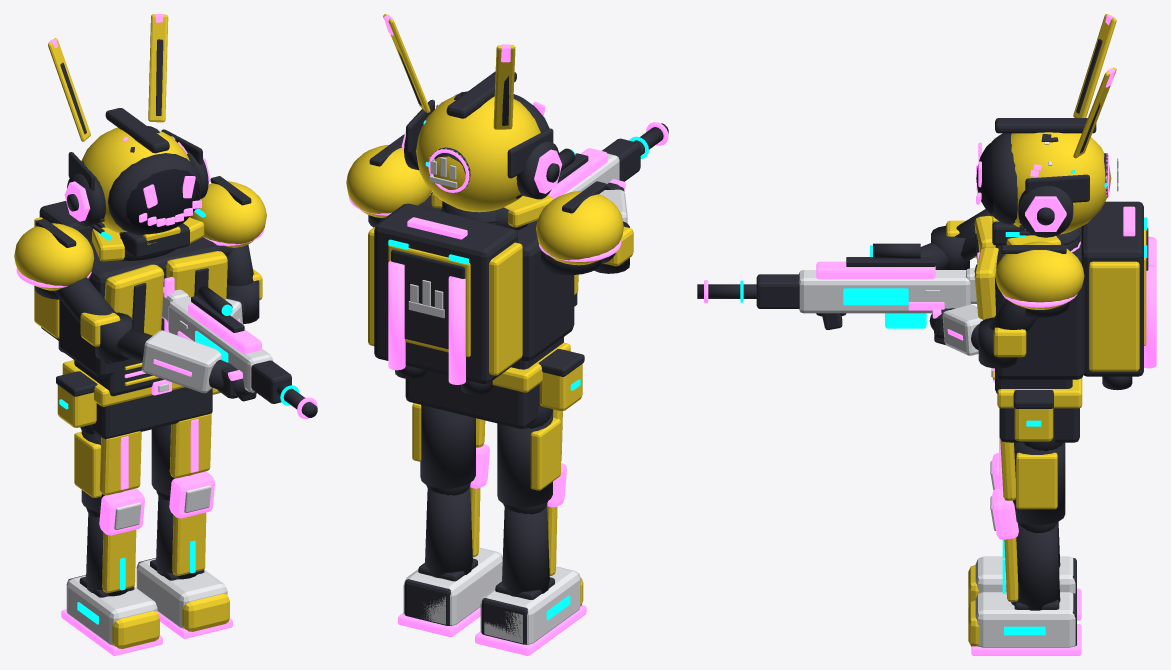
File: OrbitRush_Soldier.fbx
3 views of the same model, side by side, from view 1: azimuth 30°, elevation 25°; view 2: azimuth 150°, elevation 25°; view 3: azimuth 270°, elevation 25° (orthographic). The views are drawn at different scales.
Parts seen in each view (by area): view 1: Soldier_FINAL_M_En_Black, Soldier_FINAL_M_En_Yellow, Soldier_FINAL_M_En_White, Soldier_FINAL_M_En_Pink, Soldier_FINAL_M_En_Glass, Soldier_FINAL_M_En_Cyan; view 2: Soldier_FINAL_M_En_Black, Soldier_FINAL_M_En_Yellow, Soldier_FINAL_M_En_Pink, Soldier_FINAL_M_En_White, Soldier_FINAL_M_En_Cyan; view 3: Soldier_FINAL_M_En_Black, Soldier_FINAL_M_En_Yellow, Soldier_FINAL_M_En_White, Soldier_FINAL_M_En_Pink, Soldier_FINAL_M_En_Cyan, Soldier_FINAL_M_En_Glass.
Part boxes in pixels (x1,y1,x2,y2): Soldier_FINAL_M_En_Black: [34, 39, 317, 597]; Soldier_FINAL_M_En_Yellow: [14, 14, 266, 648]; Soldier_FINAL_M_En_White: [66, 129, 272, 645]; Soldier_FINAL_M_En_Pink: [16, 14, 317, 655]; Soldier_FINAL_M_En_Glass: [126, 168, 199, 232]; Soldier_FINAL_M_En_Cyan: [59, 169, 299, 624]; Soldier_FINAL_M_En_Black: [368, 50, 668, 644]; Soldier_FINAL_M_En_Yellow: [346, 14, 633, 605]; Soldier_FINAL_M_En_Pink: [349, 14, 668, 655]; Soldier_FINAL_M_En_White: [403, 93, 627, 644]; Soldier_FINAL_M_En_Cyan: [388, 120, 648, 620]; Soldier_FINAL_M_En_Black: [697, 39, 1148, 645]; Soldier_FINAL_M_En_Yellow: [946, 14, 1146, 646]; Soldier_FINAL_M_En_White: [798, 142, 1150, 647]; Soldier_FINAL_M_En_Pink: [704, 15, 1156, 655]; Soldier_FINAL_M_En_Cyan: [740, 170, 1147, 635]; Soldier_FINAL_M_En_Glass: [976, 142, 993, 214].
Bounding box in the file's own units: 0.96 × 2.16 × 1.54.
